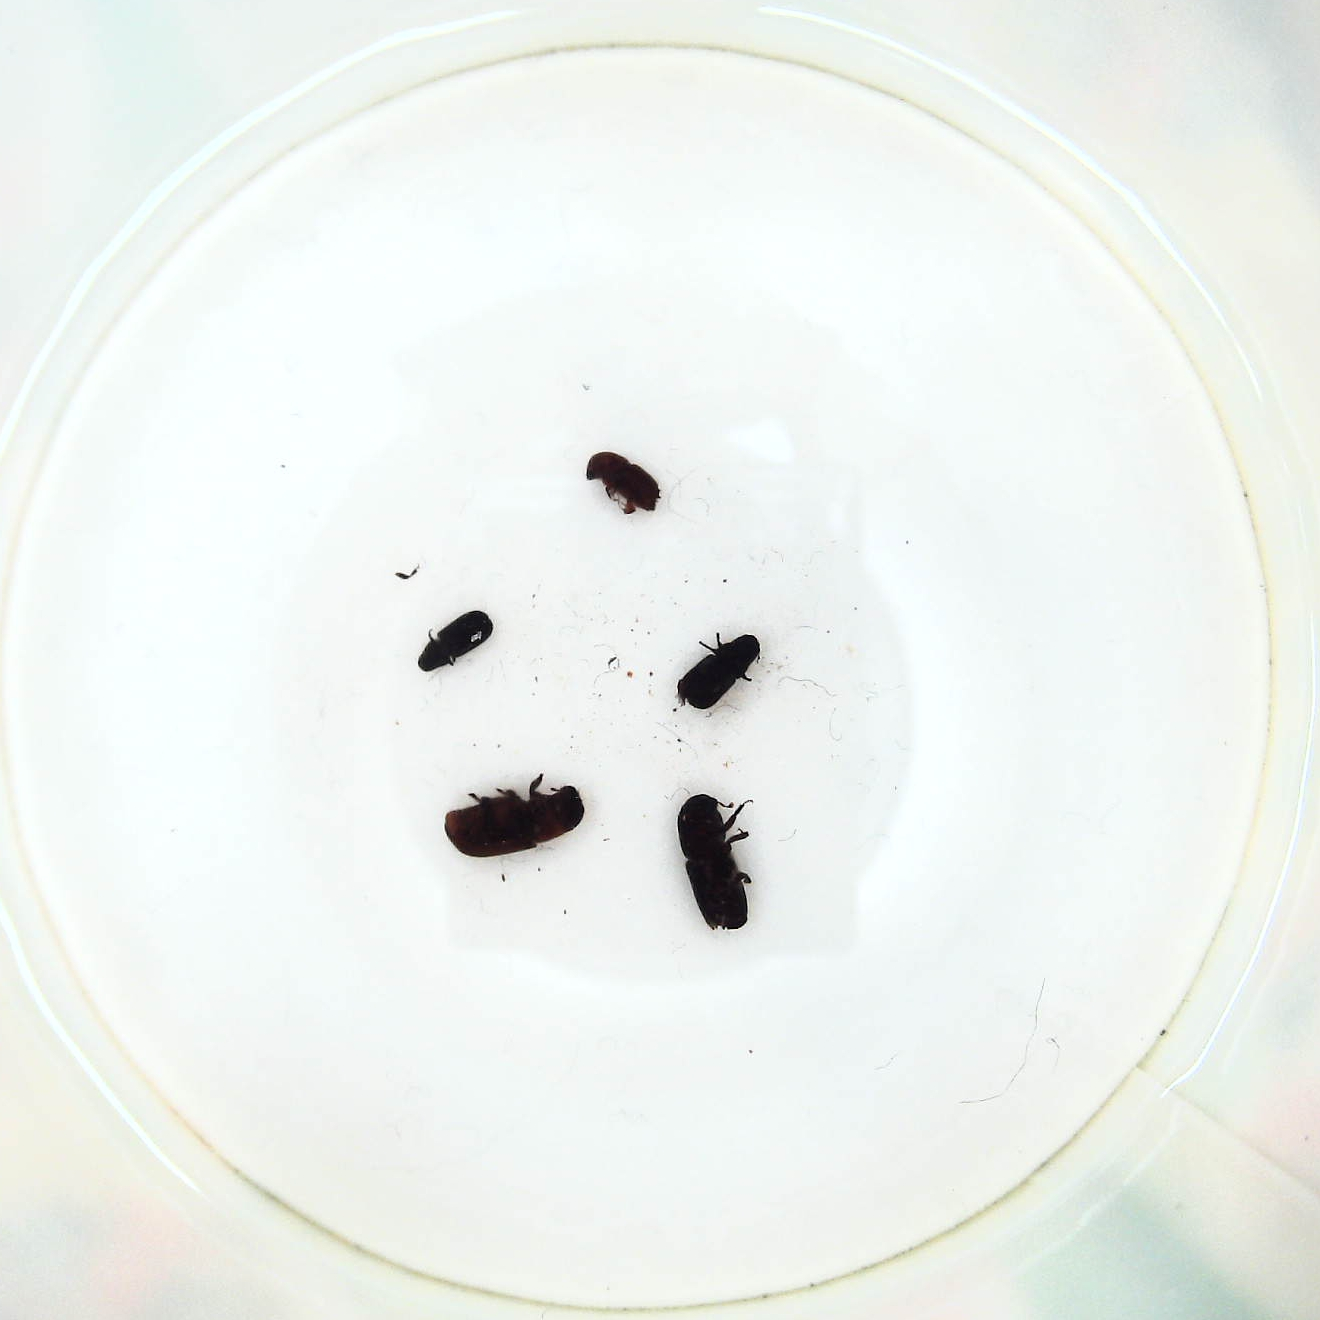Boerner: (678, 788, 768, 930)
Leconte: (446, 771, 592, 859)
armandi: (413, 604, 496, 676)
coleoptera: (673, 630, 762, 713)
linnaeus: (580, 452, 666, 522)
